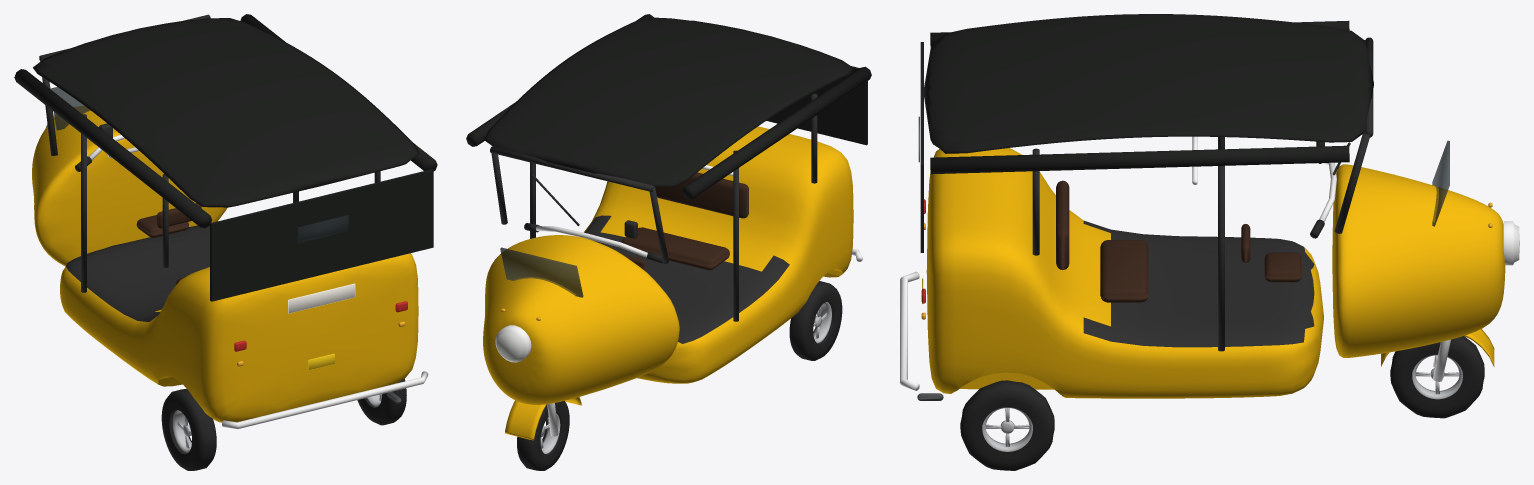
The model's file is auto_0.glb.
3 renders of one model, left to right at view 1: azimuth 30°, elevation 25°; view 2: azimuth 150°, elevation 25°; view 3: azimuth 270°, elevation 25°, orthographic. The views are drawn at different scales.
Visible parts, largest first — view 1: body, wheel_1, wheel_2; view 2: body, wheel_1, wheel_0; view 3: body, wheel_2, wheel_0.
Boxes of the visible parts, x1,y1,x2,y2 form: body: (14,14,437,429); wheel_1: (161,389,216,470); wheel_2: (357,378,406,425); body: (466,14,871,440); wheel_1: (789,281,842,360); wheel_0: (517,401,569,470); body: (900,14,1519,400); wheel_2: (960,380,1054,470); wheel_0: (1390,336,1484,418).
Size of the model in its own units: 1.42 by 1.76 by 2.81.
